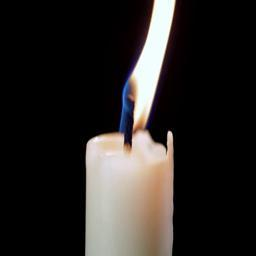fire: (122, 0, 176, 133)
